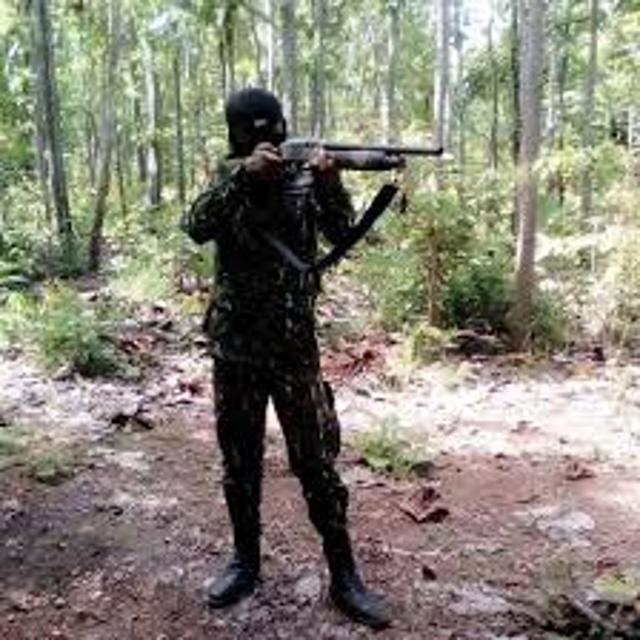gun: (233, 114, 471, 223)
poacher: (158, 66, 460, 630)
